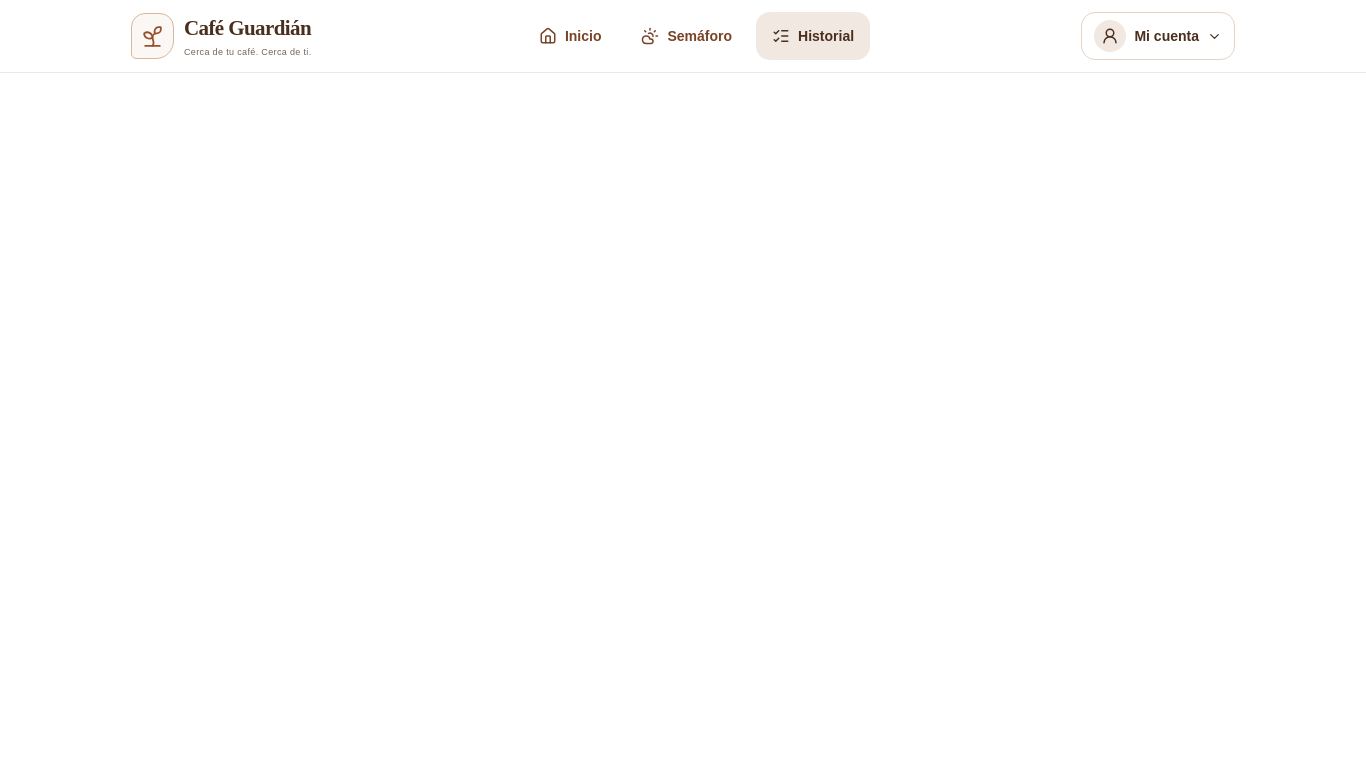
AppNavigation › permite volver a intentar si falla el cierre de sesión
The width and height of the screenshot is (1366, 768).
Click the button with aria-label "Abrir menú de usuario" at (1158, 36), box [1081,12,1235,60]
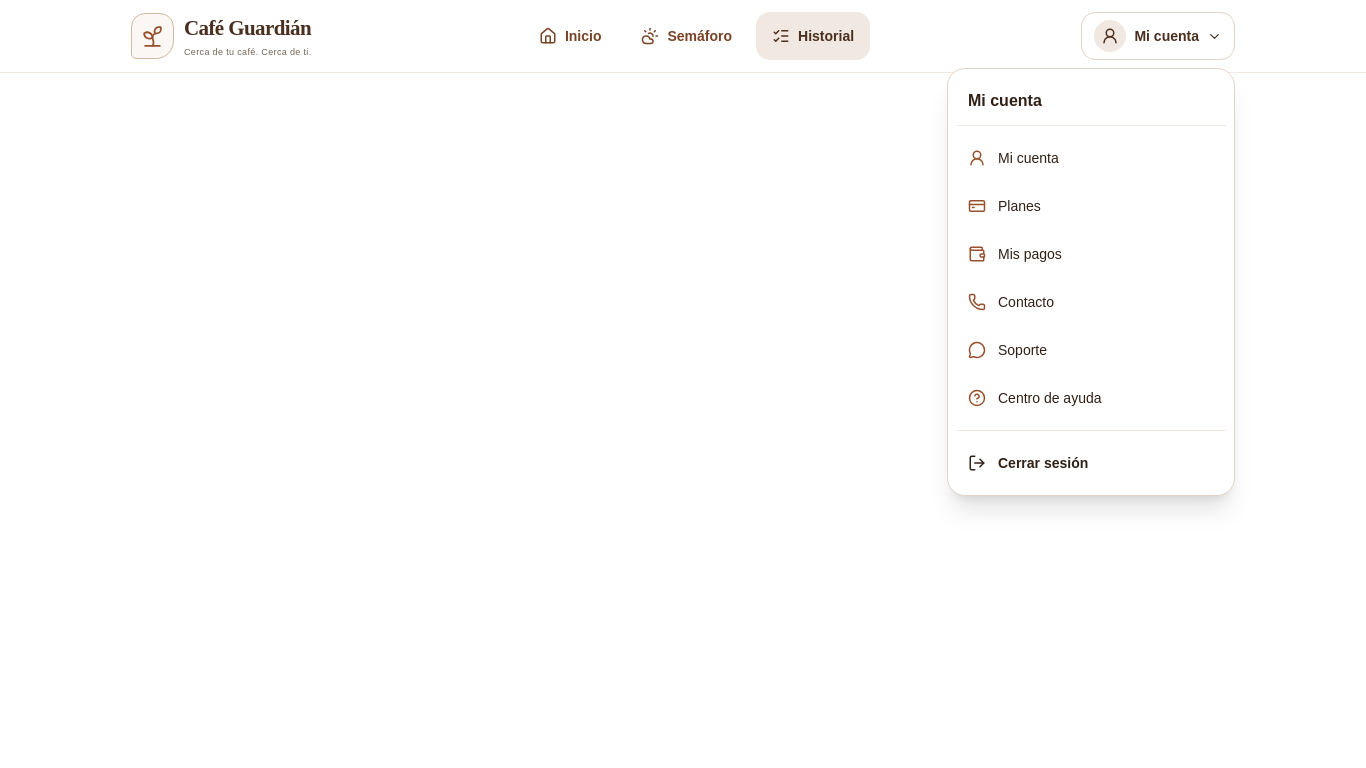
Click the button "Cerrar sesión" at (1091, 463), box [956,439,1226,487]
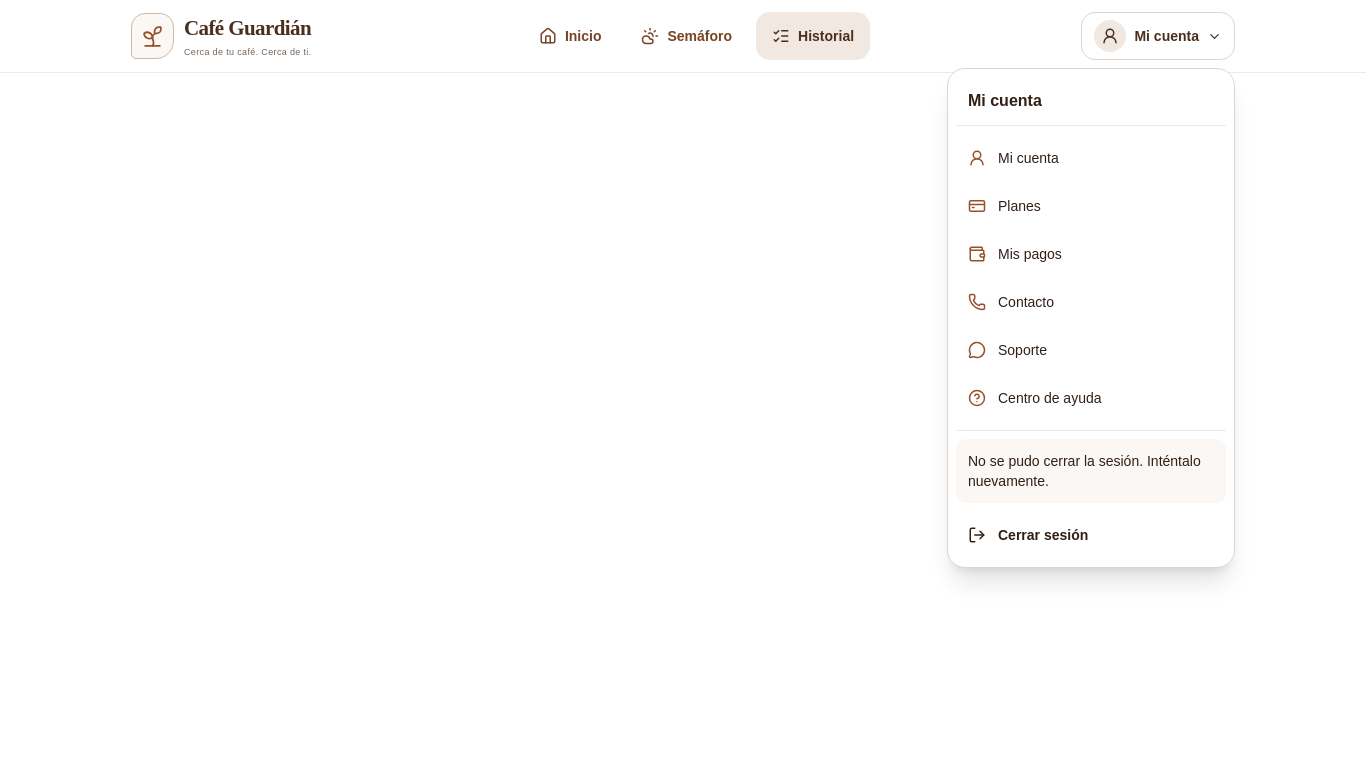
Expected: the button "Cerrar sesión" is enabled, [956,511,1226,559]
Expected: the message shows "No se pudo cerrar la sesión", [968,453,1201,489]
